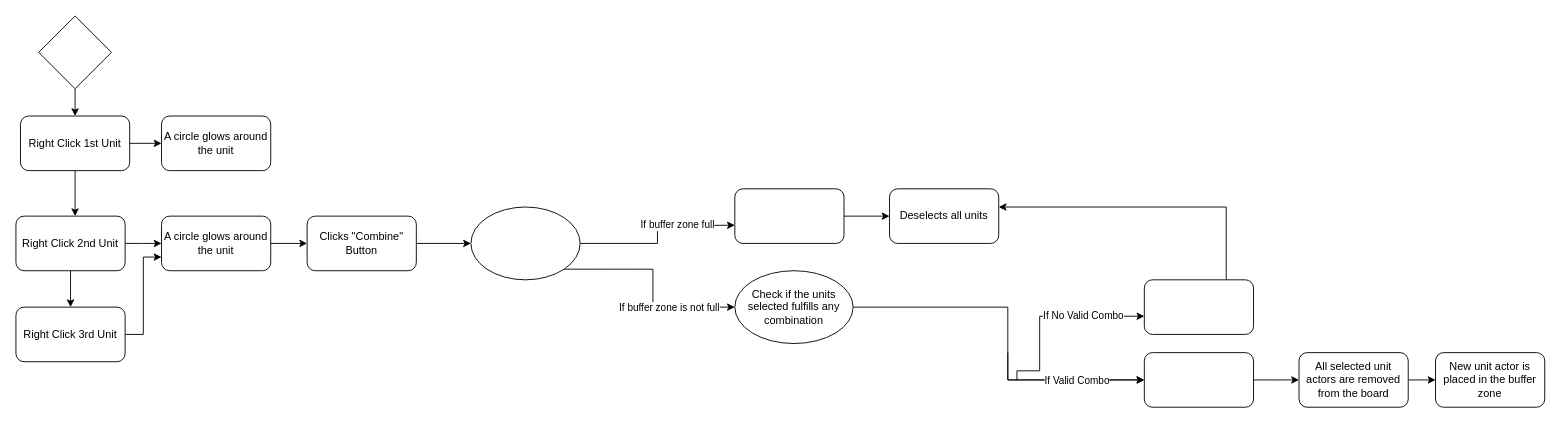
Image size: 1561x423. Some labels were removed from this diagram. Here are the shapes that lost their labels. From the top down, the centre of each, then its label:
point 74,52: Combine System
point 789,215: Displays "Buffer Zone Full" message
point 525,243: Checks if buffer zone is full
point 1198,306: Displays "No Valid Combination" message
point 1198,379: Displays "Obtained _____ Unit"
